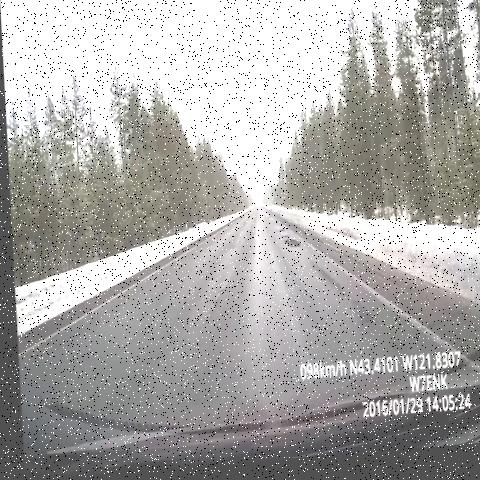pothole: (280, 240, 305, 264), (270, 229, 284, 246)
